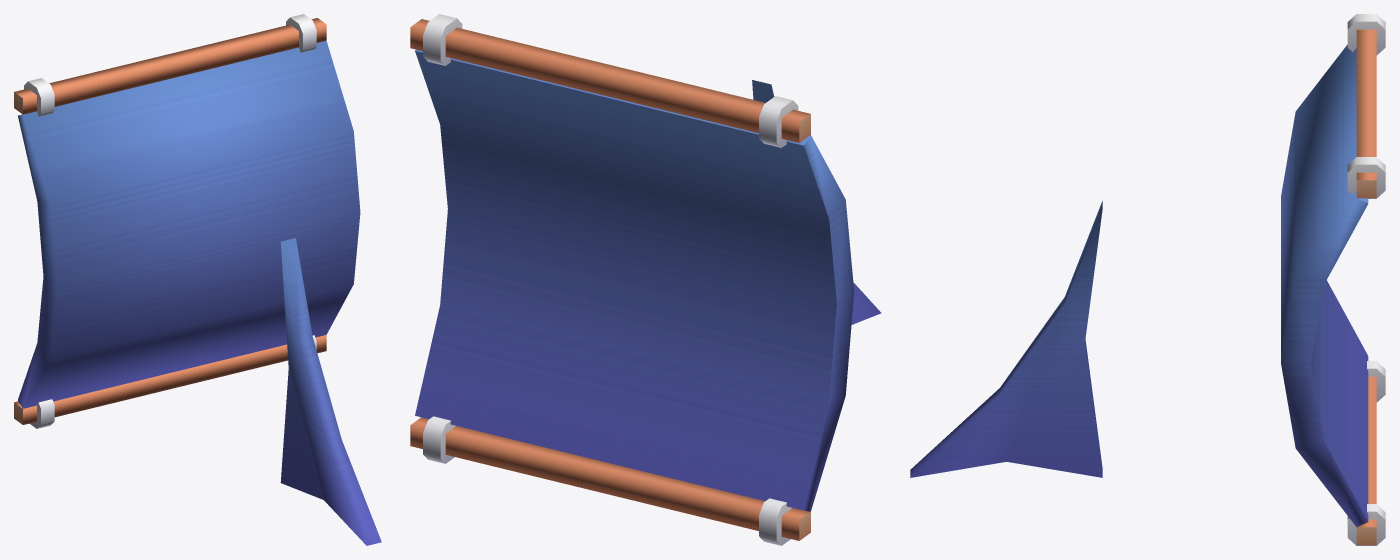
The model's file is sail_blue.glb.
The picture shows the model from 3 angles, left to right: view 1: azimuth 30°, elevation 25°; view 2: azimuth 150°, elevation 25°; view 3: azimuth 270°, elevation 25°; orthographic projection. The views are drawn at different scales.
Visible parts, largest first — view 1: sail-a_blue; view 2: sail-a_blue; view 3: sail-a_blue.
Boxes of the visible parts, x1,y1,x2,y2 form: sail-a_blue: (14,14,381,545); sail-a_blue: (410,14,881,545); sail-a_blue: (910,14,1385,545).
Bounding box in the file's own units: 4.4 × 4.76 × 5.33.
Materials: 1 (1 with a texture image).
